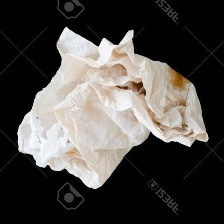tissue: (11, 23, 213, 193)
